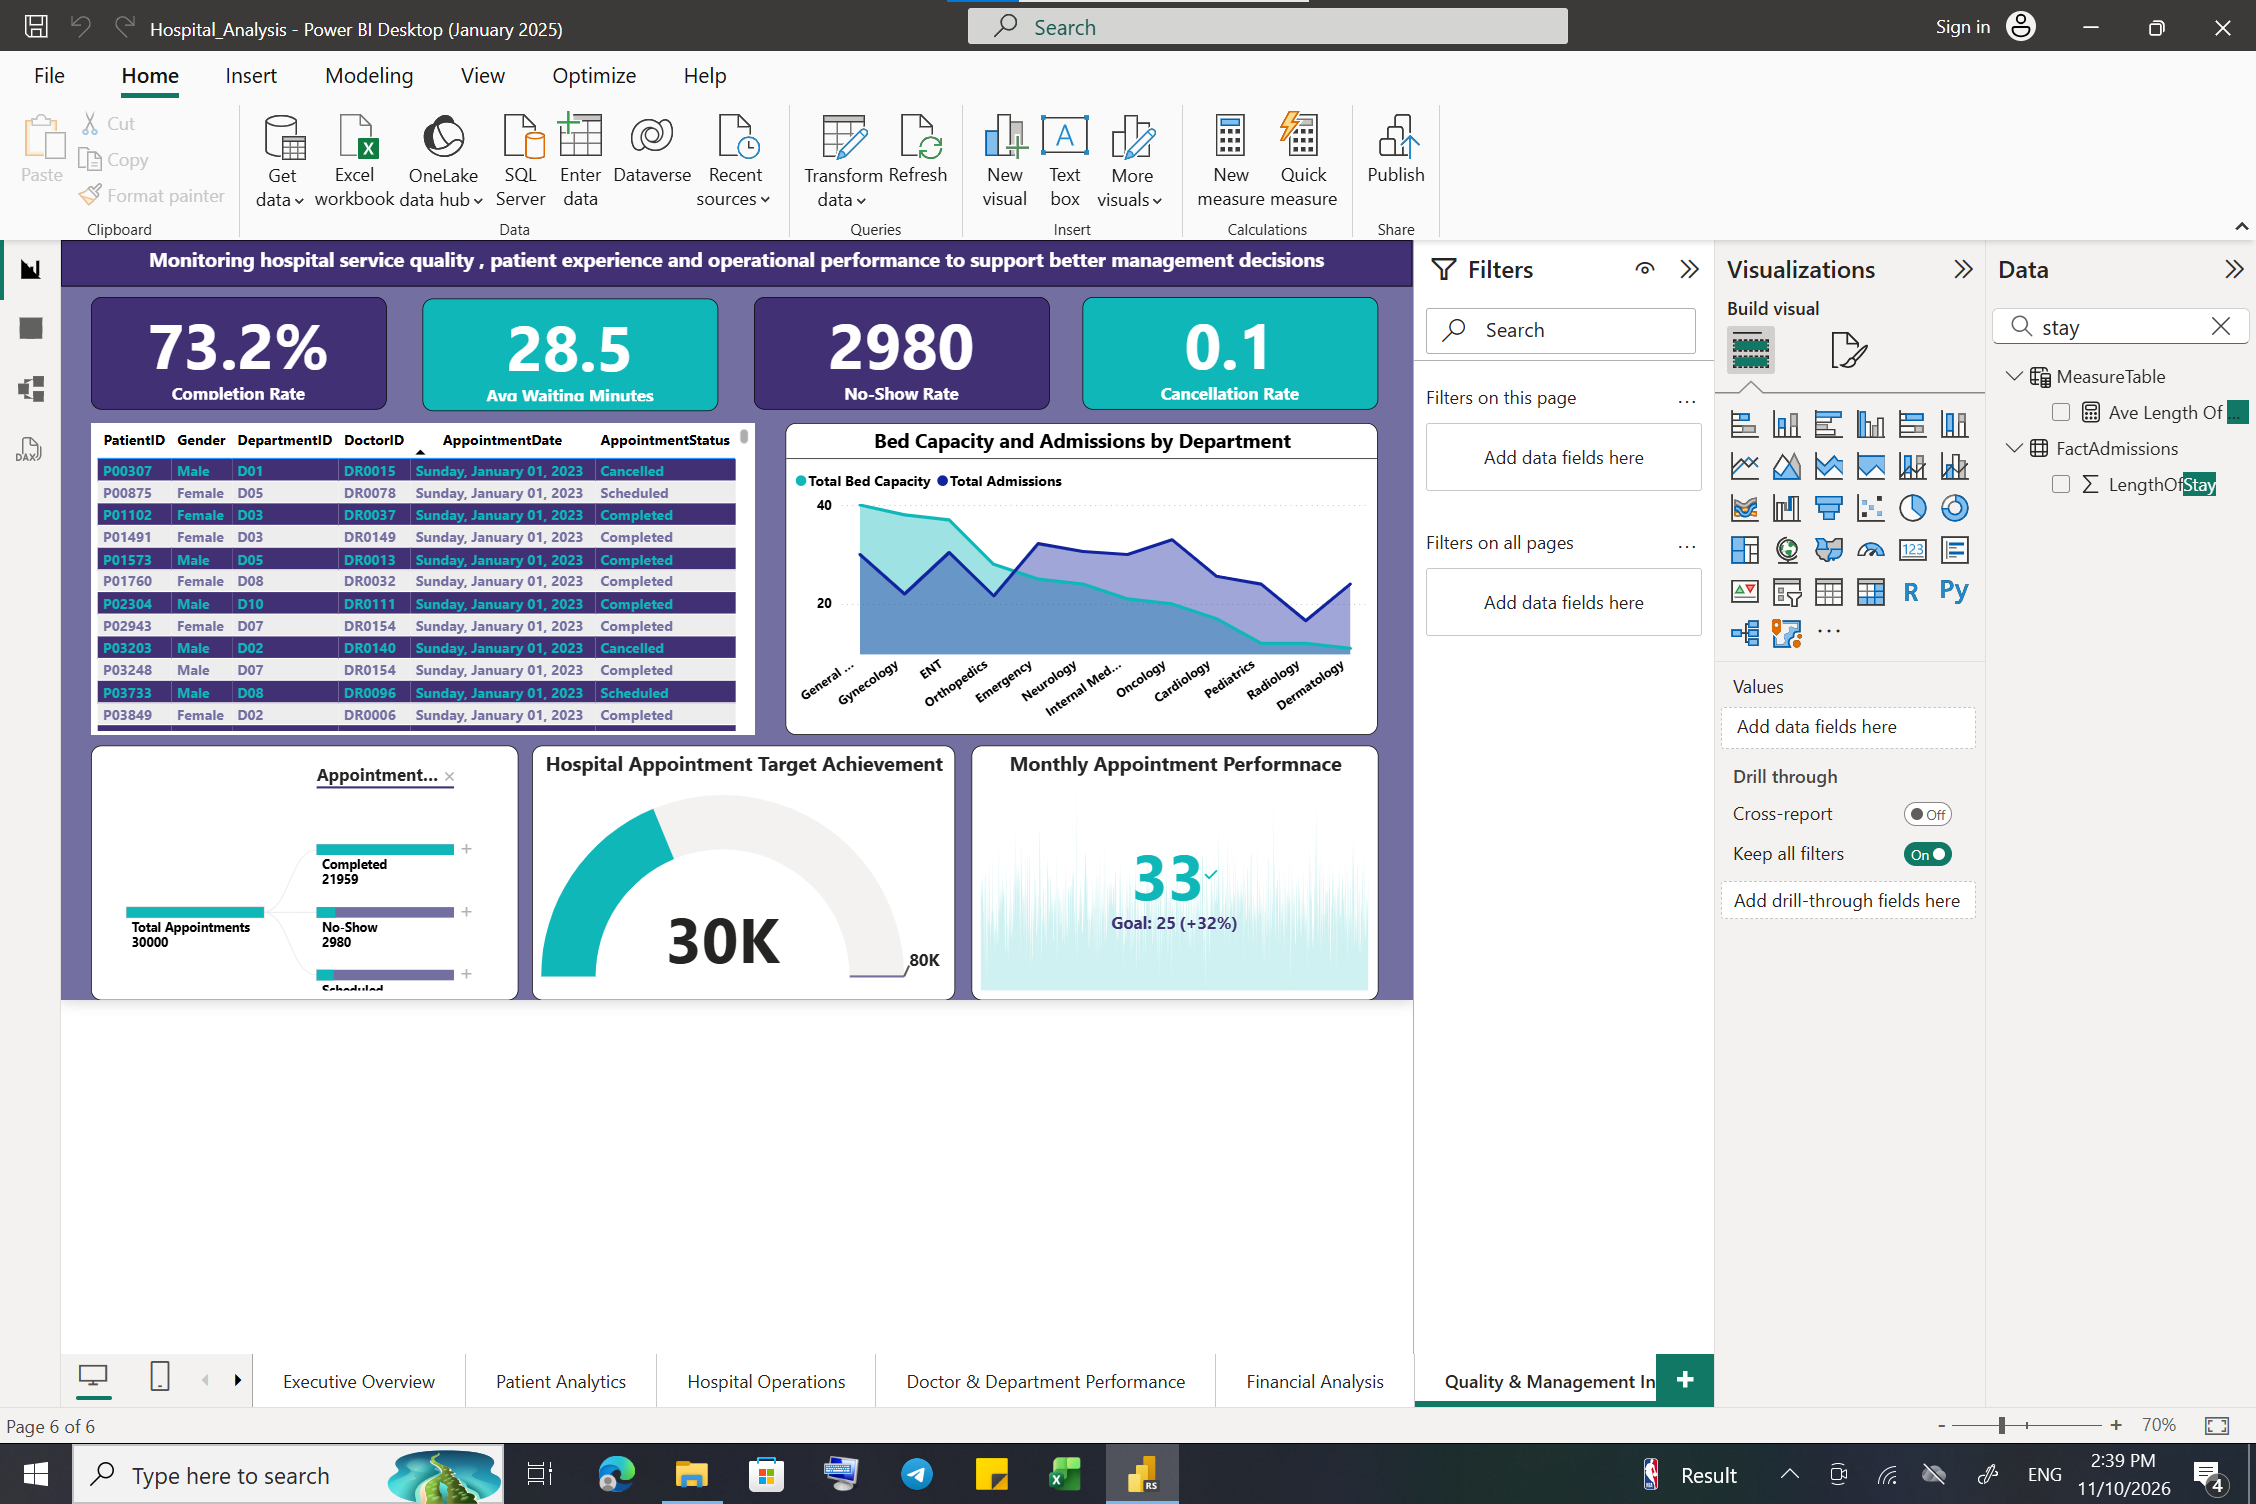

The page's visual inventory and layout, read from the dashboard file:
{"tool":"powerbi","page":{"name":"Quality & Management Insights","canvas":[1280,720],"ordinal":5},"visuals":[{"type":"card","fields":{"Values":["MeasureTable.Completion Rate"]},"box":[28.4,54,279.8,106.5],"z":0},{"type":"card","fields":{"Values":["MeasureTable.No-Show Rate"]},"box":[656.1,54,279.8,106.5],"z":1000},{"type":"card","fields":{"Values":["MeasureTable.Cancellation Rate"]},"box":[967.1,54,279.8,106.5],"z":2000},{"type":"decompositionTreeVisual","fields":{"Analyze":["MeasureTable.Total Appointments"],"ExplainBy":["FactAppointments.AppointmentStatus","DimDepartment.DepartmentName"]},"box":[28.4,478.6,404.7,241.4],"z":3000},{"type":"card","fields":{"Values":["MeasureTable.Avg Waiting Minutes"]},"box":[342.3,55.4,279.8,106.5],"z":4000},{"type":"tableEx","fields":{"Values":["DimPatient.PatientID","DimPatient.Gender","DimDepartment.DepartmentID","DimDoctor.DoctorID","FactAppointments.AppointmentDate","FactAppointments.AppointmentStatus"]},"box":[28.4,173.3,627.7,295.4],"z":5000},{"type":"textbox","box":[0,0,1279.5,44],"z":5002},{"type":"gauge","title":"Hospital Appointment Target Achievement","fields":{"Y":["MeasureTable.Total Appointments"],"MinValue":["MeasureTable.Min appointments"],"MaxValue":["MeasureTable.Target Appointments"],"TargetValue":["MeasureTable.Target Appointments"]},"box":[445.9,478.6,400.5,241.4],"z":5004},{"type":"areaChart","title":" Bed Capacity and  Admissions by Department","fields":{"Category":["DimDepartment.DepartmentName"],"Y":["MeasureTable.Total Bed Capacity"],"Y2":["MeasureTable.Total Admissions"]},"box":[685.9,173.3,560.9,295.4],"z":5005},{"type":"kpi","title":"Monthly Appointment Performnace","fields":{"Indicator":["MeasureTable.Total Appointments"],"TrendLine":["DimDate.Date"],"Goal":["MeasureTable.Previous Month Appointments"]},"box":[862,478.6,385,241.4],"z":5006}]}

Visuals, with their boxes on the page's 1280x720 design canvas (x1, y1, x2, y2). These are canvas units, not pixel positions in the 2256x1504 screenshot, which may show the page scaled, cropped or inside an application window:
card - MeasureTable.Completion Rate: detection(28, 54, 308, 160)
card - MeasureTable.No-Show Rate: detection(656, 54, 936, 160)
card - MeasureTable.Cancellation Rate: detection(967, 54, 1247, 160)
decompositionTreeVisual - MeasureTable.Total Appointments x FactAppointments.AppointmentStatus: detection(28, 479, 433, 720)
card - MeasureTable.Avg Waiting Minutes: detection(342, 55, 622, 162)
tableEx - DimPatient.PatientID x DimPatient.Gender: detection(28, 173, 656, 469)
textbox: detection(0, 0, 1280, 44)
"Hospital Appointment Target Achievement" gauge: detection(446, 479, 846, 720)
" Bed Capacity and  Admissions by Department" areaChart: detection(686, 173, 1247, 469)
"Monthly Appointment Performnace" kpi: detection(862, 479, 1247, 720)
